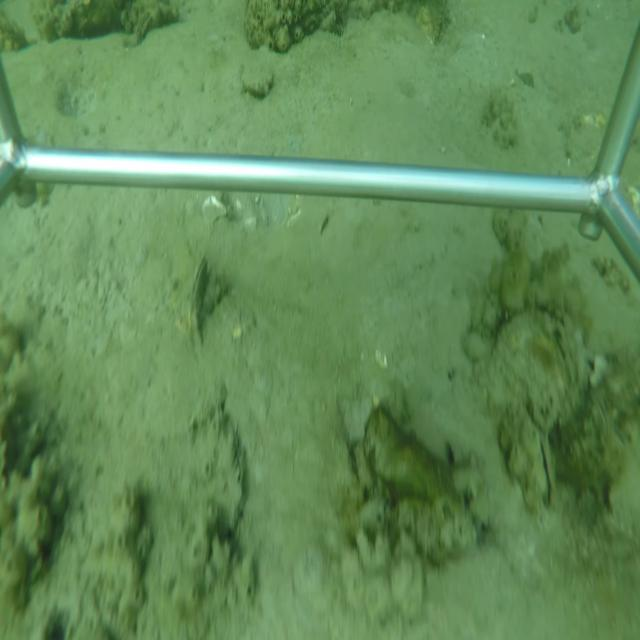Oyster-Closed: (188, 253, 211, 359)
Oyster-Indeterminate: (491, 310, 592, 426)
Oyster-Open: (520, 418, 557, 513), (236, 62, 275, 103)
